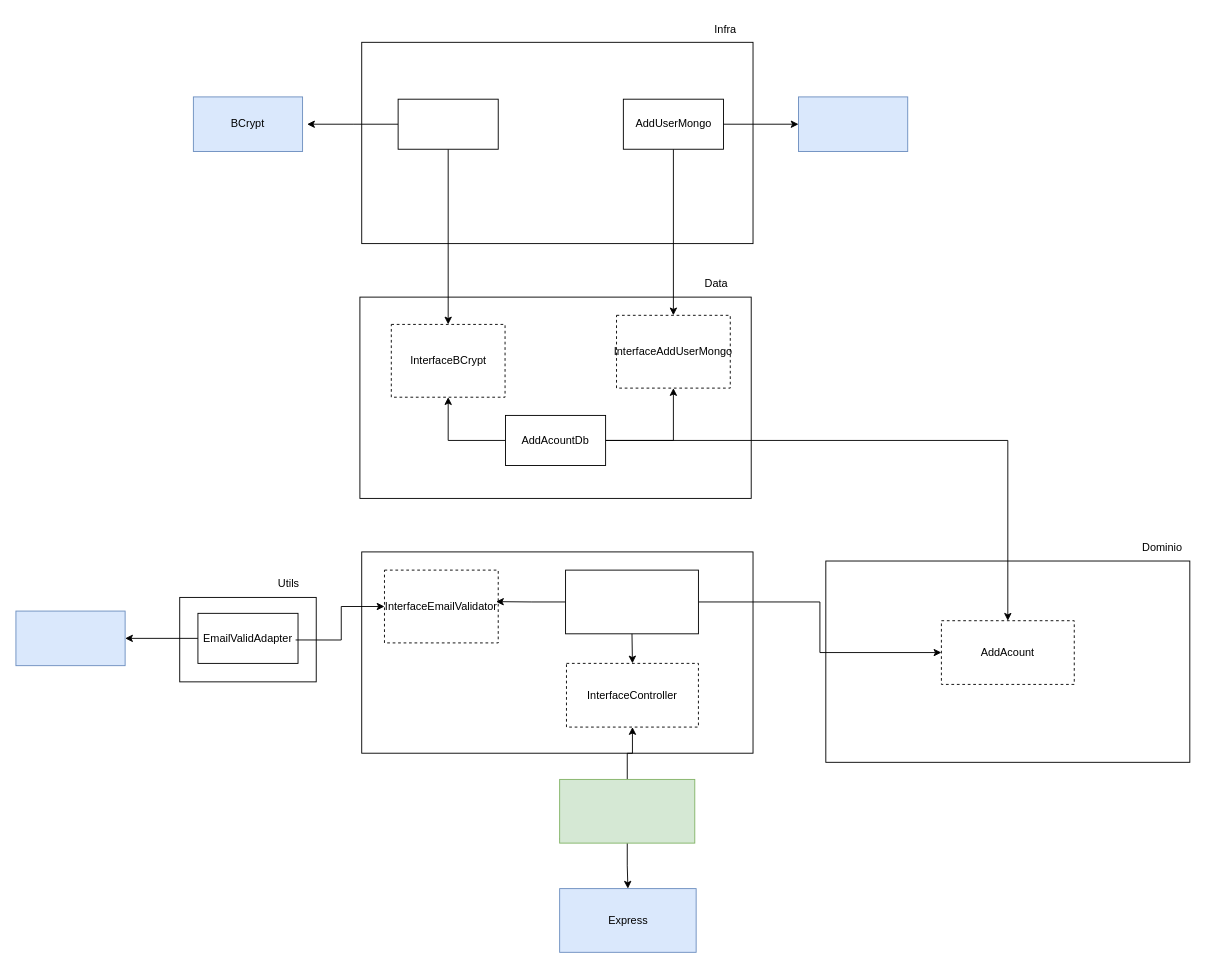
Image size: 1206x968. Some labels were removed from this diagram. Here are the shapes that lost their labels. From the top down, the centre of each, then its label:
the point at 447,123: BCryptAdapter
the point at 853,124: MongoDB
the point at 631,601: CreateAccountController
the point at 70,638: Validator
the point at 627,811: ExpressAdapter
